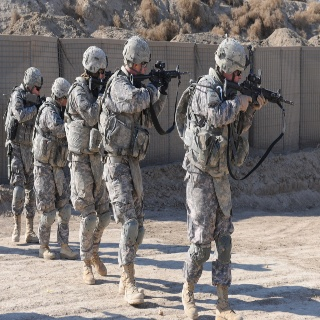rifle: (223, 69, 294, 114), (129, 60, 191, 98)
